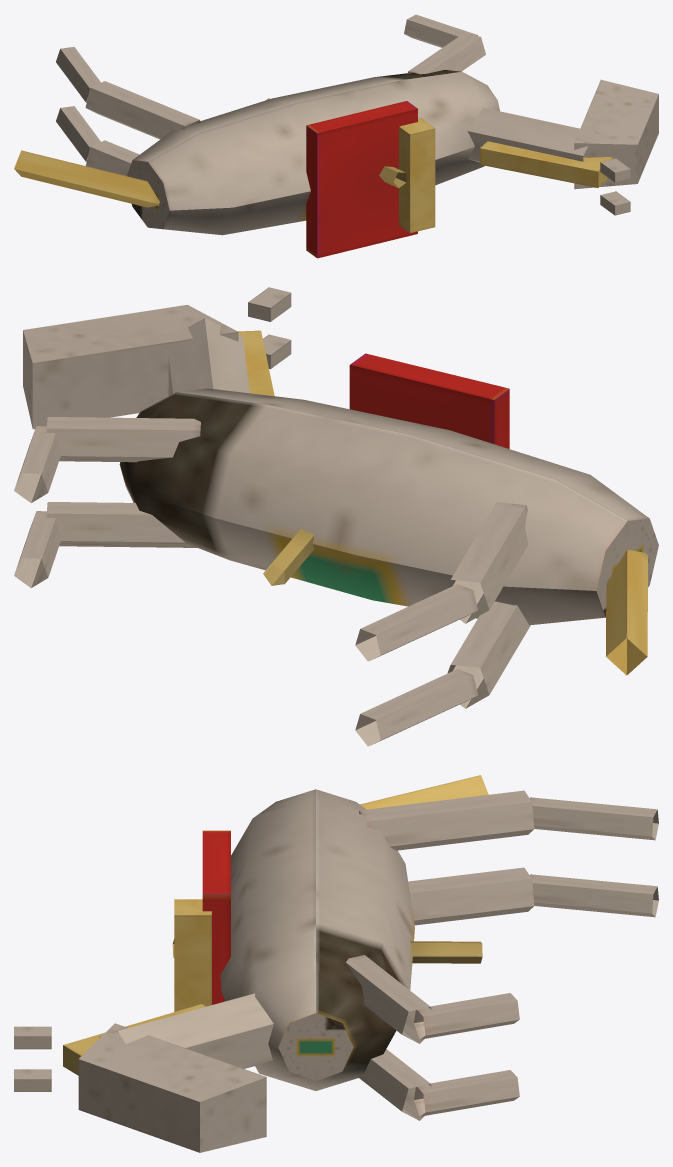
The model's file is carousel_horse.fbx.
The picture shows the model from 3 angles, top to bottom: view 1: azimuth 30°, elevation 25°; view 2: azimuth 150°, elevation 25°; view 3: azimuth 270°, elevation 25°; orthographic projection. The views are drawn at different scales.
Parts seen in each view (by area): view 1: carousel_horse; view 2: carousel_horse; view 3: carousel_horse.
Part boxes in pixels (left/top/right/bottom): carousel_horse: left=14, top=14, right=658, bottom=258; carousel_horse: left=14, top=287, right=658, bottom=746; carousel_horse: left=14, top=775, right=658, bottom=1152.
Size of the model in its own units: 1.72 by 0.38 by 1.37.
1 material, 1 textured.
